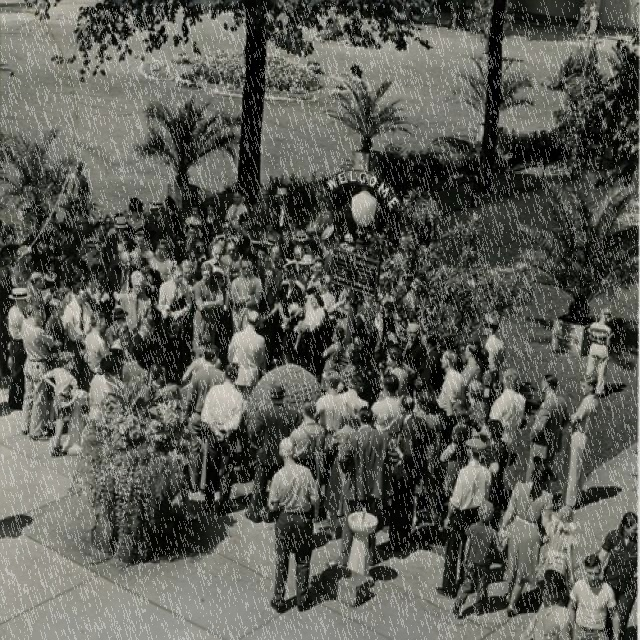pessoa: (265, 433, 323, 613), (434, 434, 494, 600), (496, 459, 556, 619), (243, 379, 302, 526), (450, 498, 510, 620), (182, 342, 228, 496), (200, 362, 244, 517), (148, 384, 198, 520), (394, 392, 434, 550), (336, 404, 394, 510), (557, 371, 599, 512), (19, 302, 58, 442), (522, 371, 568, 486), (598, 510, 639, 639), (566, 552, 624, 638), (412, 385, 447, 516), (40, 346, 80, 459), (156, 262, 193, 375), (488, 368, 528, 466), (520, 567, 574, 639), (438, 394, 475, 498), (310, 368, 344, 479), (226, 309, 266, 402), (6, 285, 34, 412), (60, 281, 95, 382), (329, 411, 361, 518), (332, 339, 366, 439), (434, 347, 464, 458), (190, 260, 222, 364), (204, 235, 236, 334), (581, 305, 615, 398), (290, 398, 326, 483), (297, 236, 328, 334), (105, 322, 136, 415), (484, 419, 511, 523), (256, 265, 282, 371), (276, 266, 304, 364), (229, 254, 264, 332), (480, 310, 507, 410), (400, 321, 428, 414), (119, 268, 155, 340), (0, 220, 17, 372), (86, 352, 124, 419), (369, 373, 407, 439), (178, 332, 223, 385), (292, 286, 328, 352), (82, 310, 114, 384), (316, 325, 347, 398), (82, 310, 115, 378), (106, 249, 144, 305), (23, 214, 58, 274), (362, 299, 397, 358), (80, 221, 108, 291), (467, 345, 497, 408), (101, 214, 137, 266), (63, 157, 91, 222), (332, 374, 368, 424), (420, 333, 447, 398), (122, 195, 152, 252), (144, 196, 172, 254), (380, 345, 410, 399), (22, 270, 48, 330), (316, 272, 346, 324), (44, 284, 76, 332), (350, 328, 374, 390), (54, 221, 77, 285), (66, 206, 95, 256), (147, 236, 177, 284), (464, 378, 490, 432), (44, 295, 66, 358), (119, 341, 150, 385), (318, 221, 354, 258), (136, 255, 166, 299), (174, 222, 204, 265), (234, 210, 256, 268), (200, 204, 222, 261), (404, 382, 432, 425), (104, 306, 134, 346), (261, 242, 286, 290), (220, 238, 246, 284), (10, 244, 36, 288), (251, 187, 276, 232), (540, 503, 576, 533), (460, 340, 482, 388), (90, 281, 112, 328), (271, 187, 292, 236), (108, 239, 140, 271), (581, 2, 602, 46), (276, 222, 297, 266), (202, 242, 229, 275), (208, 220, 240, 247), (224, 188, 251, 220), (80, 237, 106, 270), (129, 228, 155, 257), (147, 359, 168, 394), (182, 203, 204, 236), (397, 362, 420, 388), (288, 244, 306, 276), (105, 211, 124, 238), (179, 258, 197, 286), (72, 256, 90, 282), (47, 228, 59, 252), (314, 258, 326, 274), (241, 195, 251, 214), (130, 332, 144, 342), (79, 205, 81, 208)
